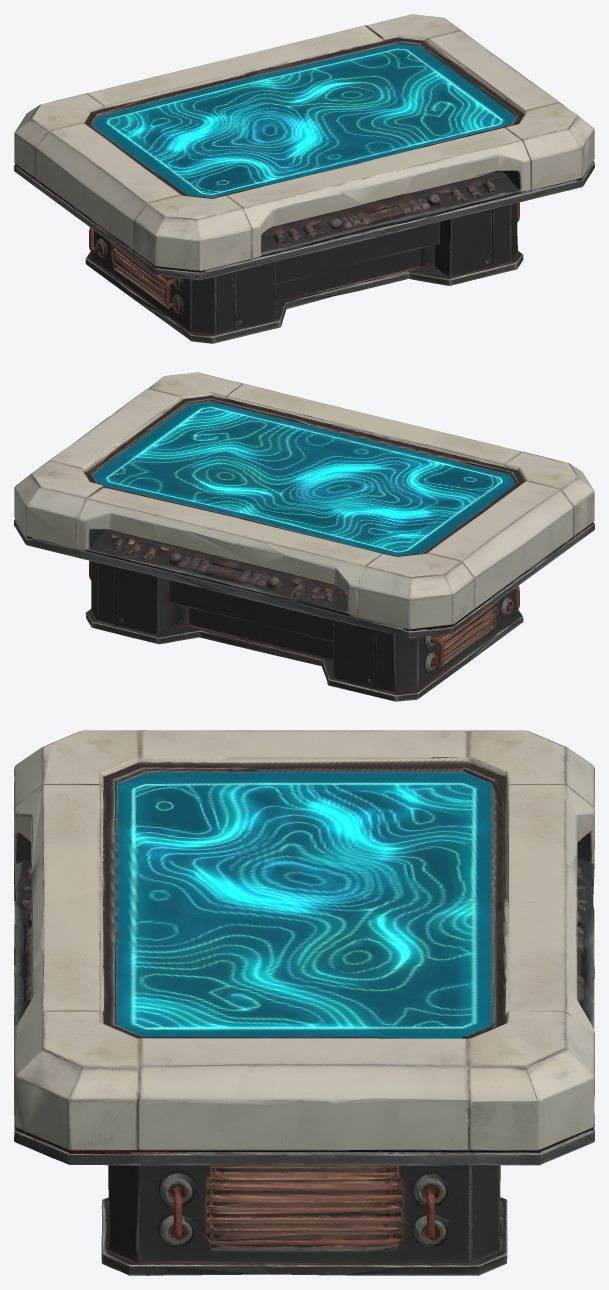
File: mission-table.glb
The picture shows the model from 3 angles, top to bottom: view 1: azimuth 30°, elevation 25°; view 2: azimuth 150°, elevation 25°; view 3: azimuth 270°, elevation 25°; orthographic projection. The views are drawn at different scales.
Parts seen in each view (by area): view 1: mission_table_000; view 2: mission_table_000; view 3: mission_table_000.
Boxes of the visible parts, x1=… form: mission_table_000: x1=14, y1=14, x2=594, y2=343; mission_table_000: x1=14, y1=372, x2=594, y2=701; mission_table_000: x1=14, y1=730, x2=594, y2=1275.
Size of the model in its own units: 3.4 by 1.08 by 2.33.
Materials: 1 (1 with a texture image).
